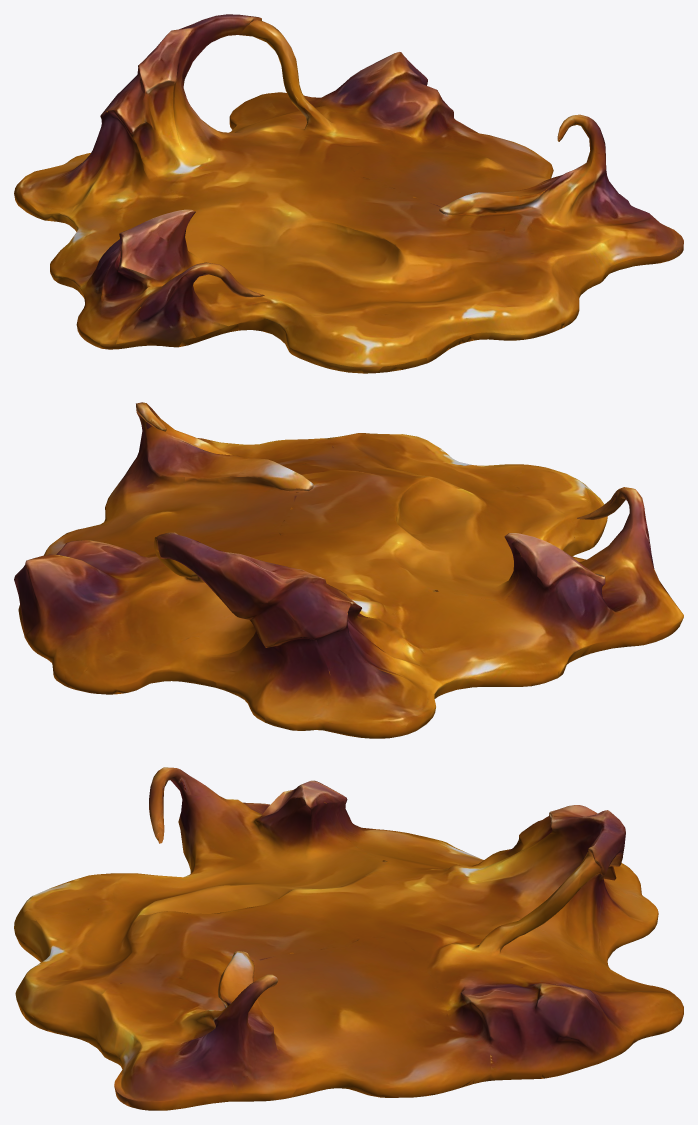
File: hive-goo-puddle.glb
The picture shows the model from 3 angles, top to bottom: view 1: azimuth 30°, elevation 25°; view 2: azimuth 150°, elevation 25°; view 3: azimuth 270°, elevation 25°; orthographic projection. The views are drawn at different scales.
Parts seen in each view (by area): view 1: SM_HiveGooPuddle; view 2: SM_HiveGooPuddle; view 3: SM_HiveGooPuddle.
Boxes of the visible parts, x1,y1,x2,y2 form: SM_HiveGooPuddle: (14,14,683,373); SM_HiveGooPuddle: (14,402,683,738); SM_HiveGooPuddle: (14,767,683,1110).
Size of the model in its own units: 1.89 by 0.4413 by 1.84.
1 material, 1 textured.
